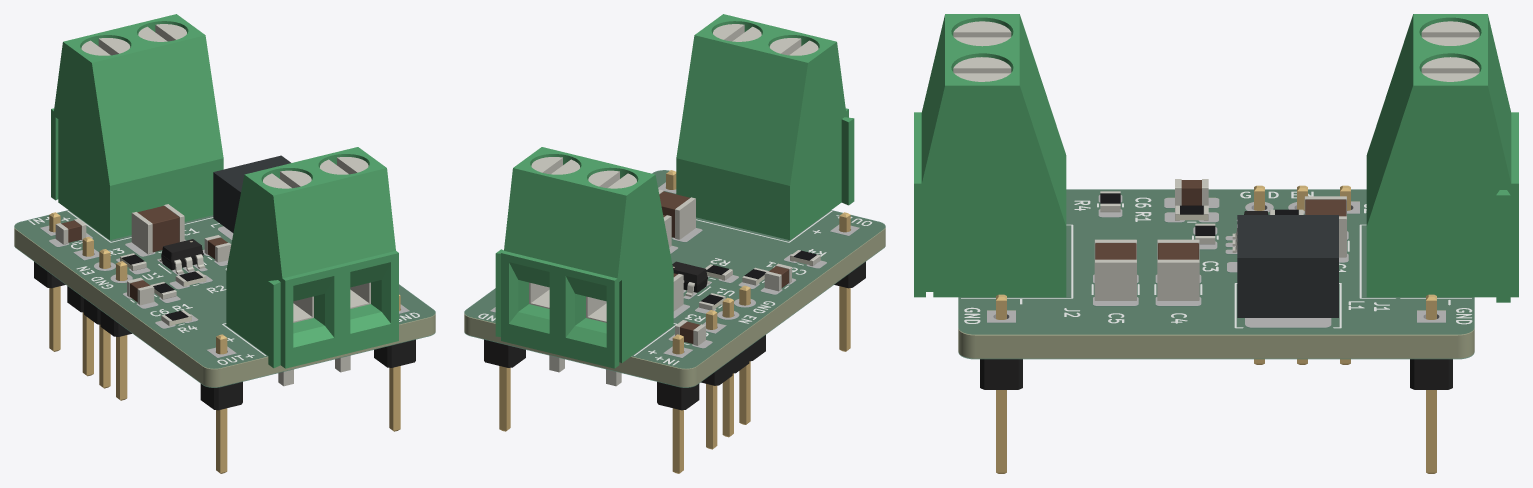
Rendered from board.glb.
3 renders of one model, left to right at view 1: azimuth 30°, elevation 25°; view 2: azimuth 150°, elevation 25°; view 3: azimuth 270°, elevation 25°, orthographic. The views are drawn at different scales.
Visible parts, largest first — view 1: =>[0:1:1:11] (×2), =>[0:1:1:24], =>[0:1:1:22], =>[0:1:1:18] (×3), =>[0:1:1:16], =>[0:1:1:7], VLS6045EX-envelope (Shell), =>[0:1:1:19], =>[0:1:1:5] (×3), =>[0:1:1:20], =>[0:1:1:3], =>[0:1:1:23]; view 2: =>[0:1:1:11] (×2), =>[0:1:1:24], =>[0:1:1:22], =>[0:1:1:18] (×3), =>[0:1:1:16], =>[0:1:1:19], =>[0:1:1:7], =>[0:1:1:20], =>[0:1:1:5] (×2), =>[0:1:1:3], =>[0:1:1:23]; view 3: =>[0:1:1:11] (×2), =>[0:1:1:24], =>[0:1:1:22], VLS6045EX-envelope (Shell), =>[0:1:1:7] (×3), =>[0:1:1:18] (×2), =>[0:1:1:19], =>[0:1:1:20], =>[0:1:1:23], =>[0:1:1:5], =>[0:1:1:16].
Part boxes in pixels (left/top/right/bottom): =>[0:1:1:11] (×2): left=51, top=14, right=398, bottom=386; =>[0:1:1:24]: left=14, top=211, right=435, bottom=387; =>[0:1:1:22]: left=14, top=210, right=435, bottom=368; =>[0:1:1:18] (×3): left=34, top=212, right=415, bottom=473; =>[0:1:1:16]: left=67, top=236, right=132, bottom=400; =>[0:1:1:7]: left=131, top=204, right=184, bottom=254; VLS6045EX-envelope (Shell): left=213, top=155, right=290, bottom=232; =>[0:1:1:19]: left=40, top=226, right=409, bottom=357; =>[0:1:1:5] (×3): left=55, top=218, right=231, bottom=305; =>[0:1:1:20]: left=28, top=210, right=419, bottom=364; =>[0:1:1:3]: left=159, top=239, right=205, bottom=274; =>[0:1:1:23]: left=14, top=246, right=435, bottom=387; =>[0:1:1:11] (×2): left=495, top=14, right=854, bottom=386; =>[0:1:1:24]: left=464, top=171, right=885, bottom=387; =>[0:1:1:22]: left=464, top=170, right=885, bottom=368; =>[0:1:1:18] (×3): left=484, top=212, right=865, bottom=473; =>[0:1:1:16]: left=701, top=285, right=765, bottom=449; =>[0:1:1:19]: left=490, top=182, right=859, bottom=357; =>[0:1:1:7]: left=658, top=189, right=695, bottom=239; =>[0:1:1:20]: left=478, top=210, right=872, bottom=365; =>[0:1:1:5] (×2): left=675, top=263, right=791, bottom=345; =>[0:1:1:3]: left=672, top=261, right=709, bottom=296; =>[0:1:1:23]: left=464, top=246, right=885, bottom=387; =>[0:1:1:11] (×2): left=914, top=14, right=1518, bottom=302; =>[0:1:1:24]: left=958, top=190, right=1474, bottom=358; =>[0:1:1:22]: left=958, top=189, right=1474, bottom=334; VLS6045EX-envelope (Shell): left=1237, top=215, right=1338, bottom=317; =>[0:1:1:7] (×3): left=1094, top=196, right=1346, bottom=300; =>[0:1:1:18] (×2): left=980, top=294, right=1452, bottom=473; =>[0:1:1:19]: left=987, top=195, right=1445, bottom=327; =>[0:1:1:20]: left=961, top=191, right=1472, bottom=328; =>[0:1:1:23]: left=958, top=352, right=1474, bottom=359; =>[0:1:1:5]: left=1175, top=179, right=1208, bottom=205; =>[0:1:1:16]: left=1254, top=185, right=1350, bottom=364.
Bounding box in the file's own units: 0.0203 × 0.024 × 0.0357.
